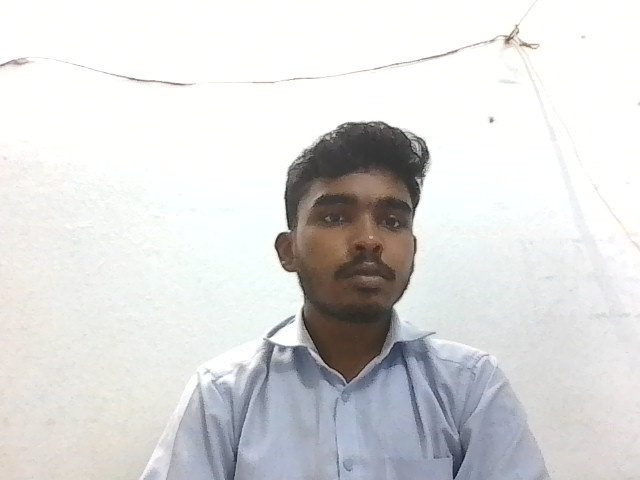real: (273, 106, 433, 333)
